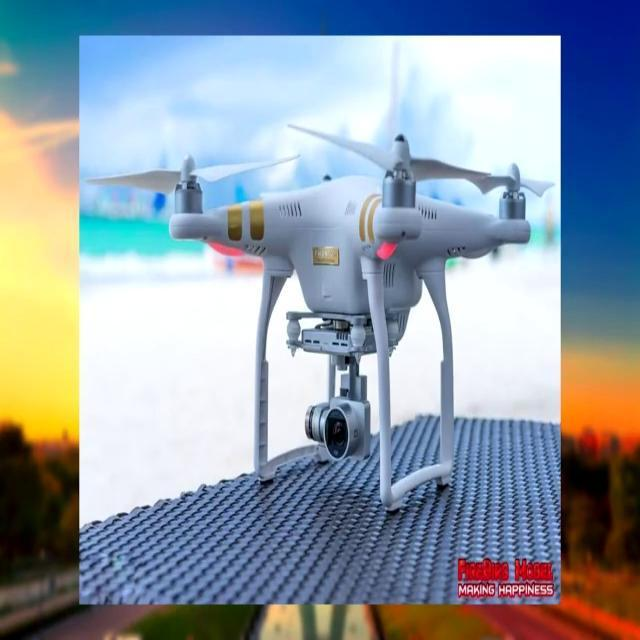Drons: (78, 109, 560, 536)
